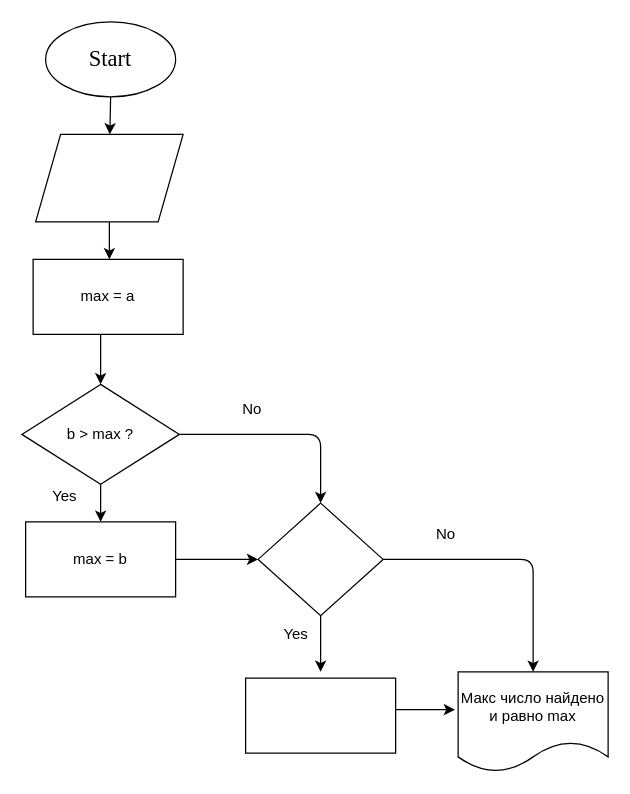
Some shapes in this 630 by 794 pixel diagram are drawn without their labels. Each missing label, with the centre of its shape:
"a = 7 b = 3 c = 2" goes at (108,177).
"c > max ?" goes at (320,559).
"max = c" goes at (320,715).
